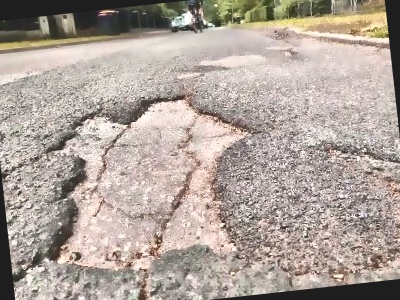pothole: (25, 83, 270, 279)
